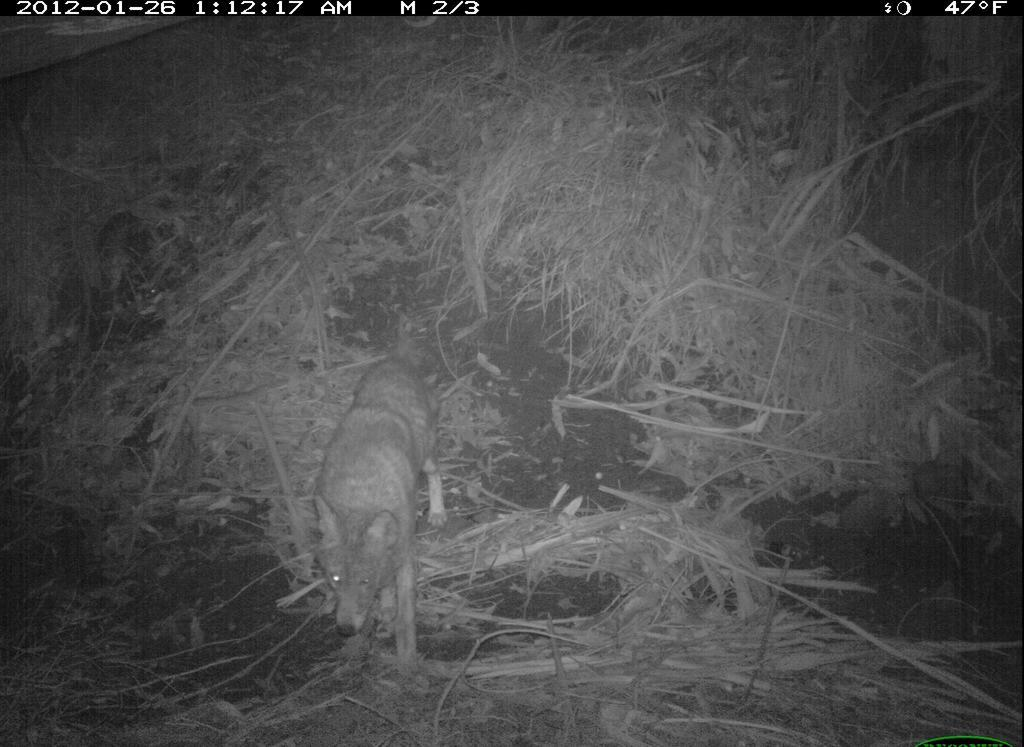coyote: (291, 349, 465, 685)
